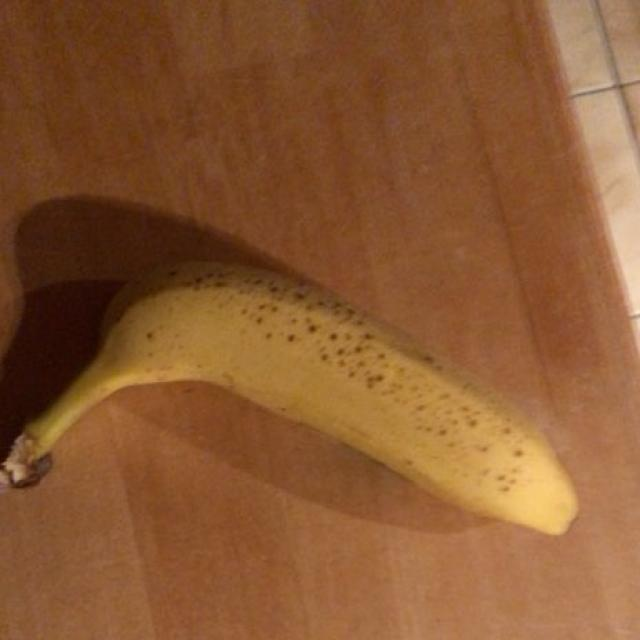banana: (30, 245, 565, 533)
